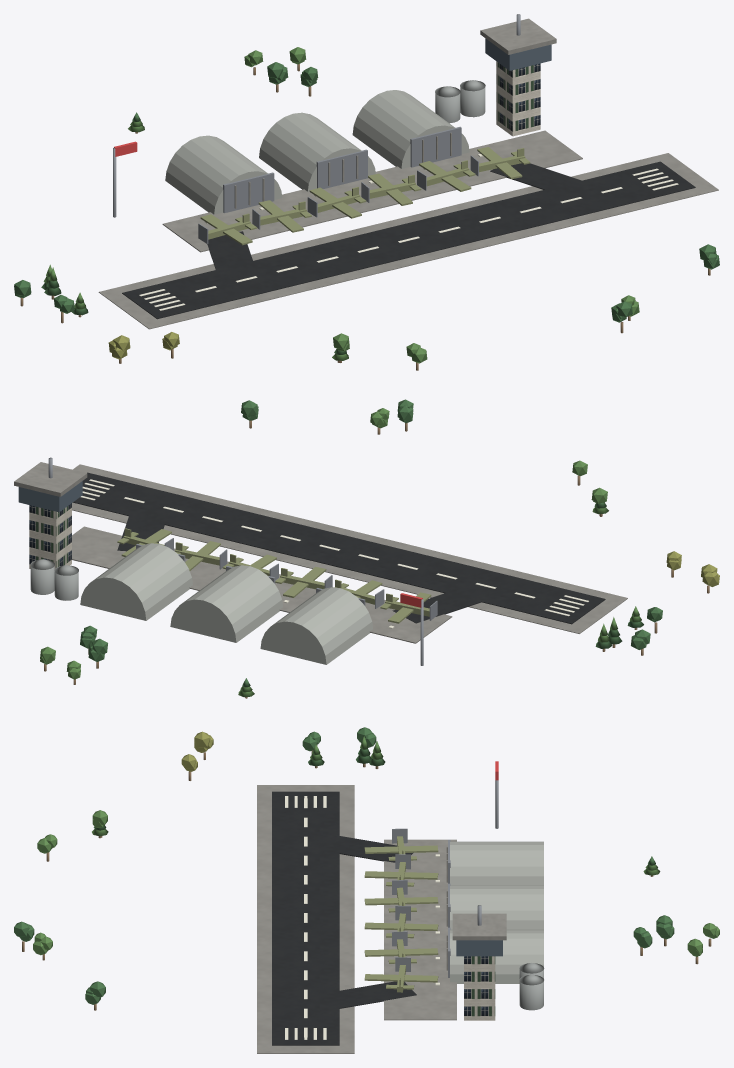
File: airbase.glb
The picture shows the model from 3 angles, top to bottom: view 1: azimuth 30°, elevation 25°; view 2: azimuth 150°, elevation 25°; view 3: azimuth 270°, elevation 25°; orthographic projection. The views are drawn at different scales.
Parts seen in each view (by area): view 1: airbase; view 2: airbase; view 3: airbase.
Part boxes in pixels (x1,y1,x2,y2): airbase: (14,14,719,370); airbase: (14,399,719,698); airbase: (14,727,719,1053).
Size of the model in its own units: 4.15 by 0.686 by 4.06.
Materials: 14 (3 with a texture image).
